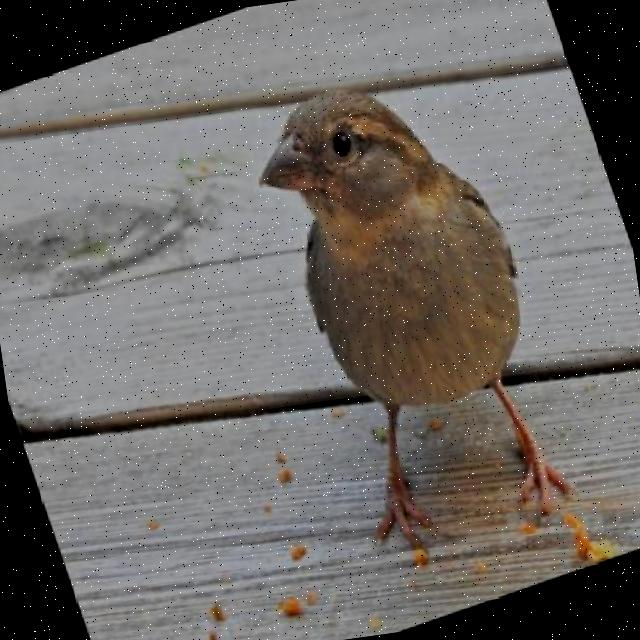sparrow: (226, 35, 605, 586)
